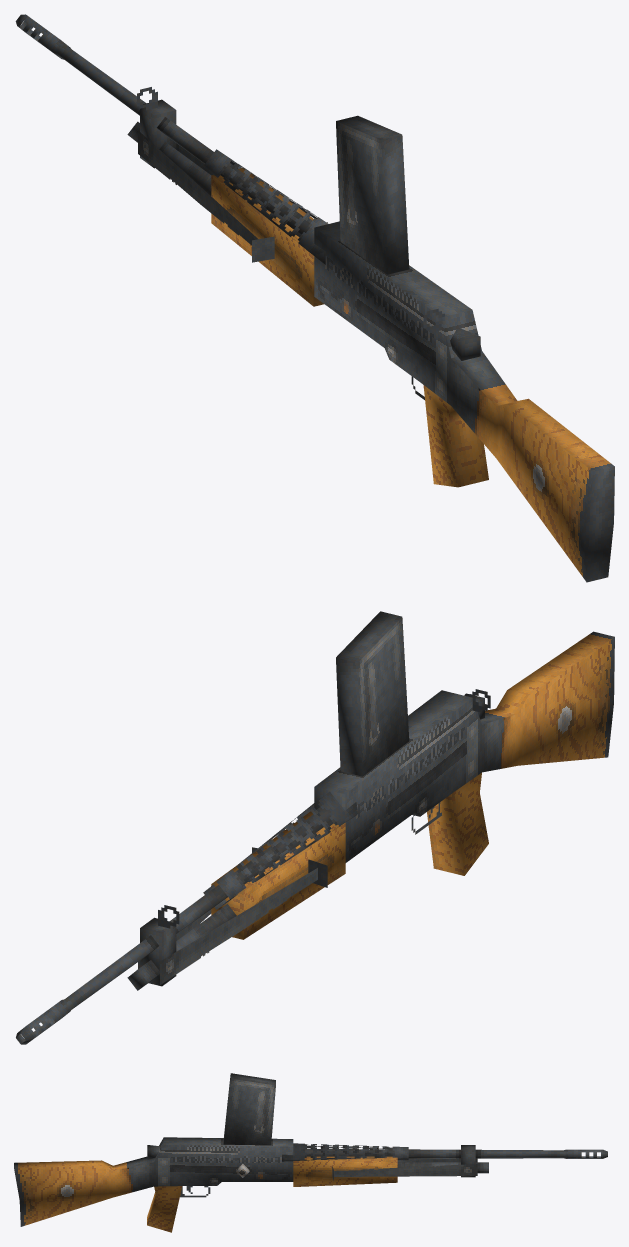
Rendered from LMG-object.glb.
3 views of the same model, one above another, from view 1: azimuth 30°, elevation 25°; view 2: azimuth 150°, elevation 25°; view 3: azimuth 270°, elevation 25° (orthographic). The views are drawn at different scales.
Visible parts, largest first — view 1: mendozaRM2; view 2: mendozaRM2; view 3: mendozaRM2.
Part boxes in pixels (x1,y1,x2,y2): mendozaRM2: [15, 14, 614, 582]; mendozaRM2: [16, 611, 614, 1044]; mendozaRM2: [14, 1073, 607, 1232].
Size of the model in its own units: 0.0836 by 0.3175 by 1.13.
Materials: 1 (1 with a texture image).
